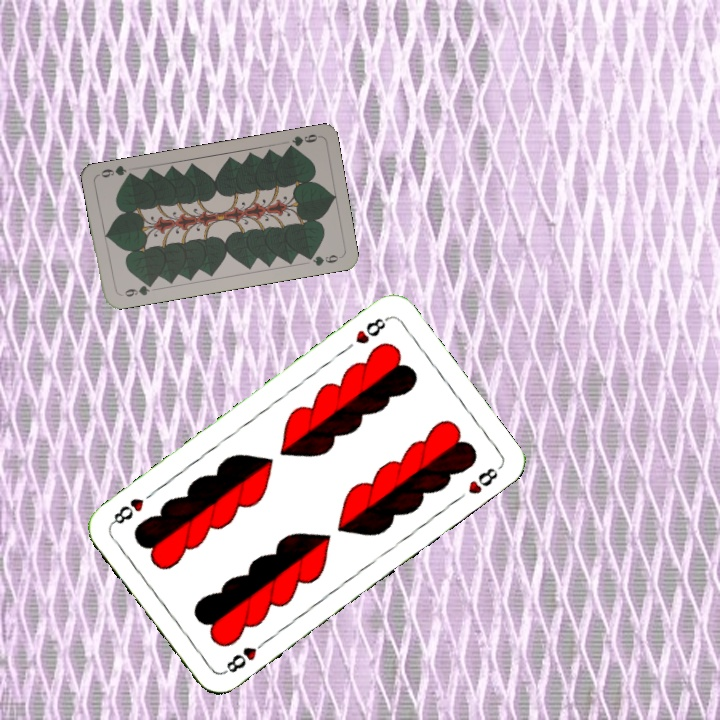G9: (282, 130, 321, 153), (116, 279, 156, 299)
H8: (219, 635, 270, 677), (351, 313, 391, 347)
